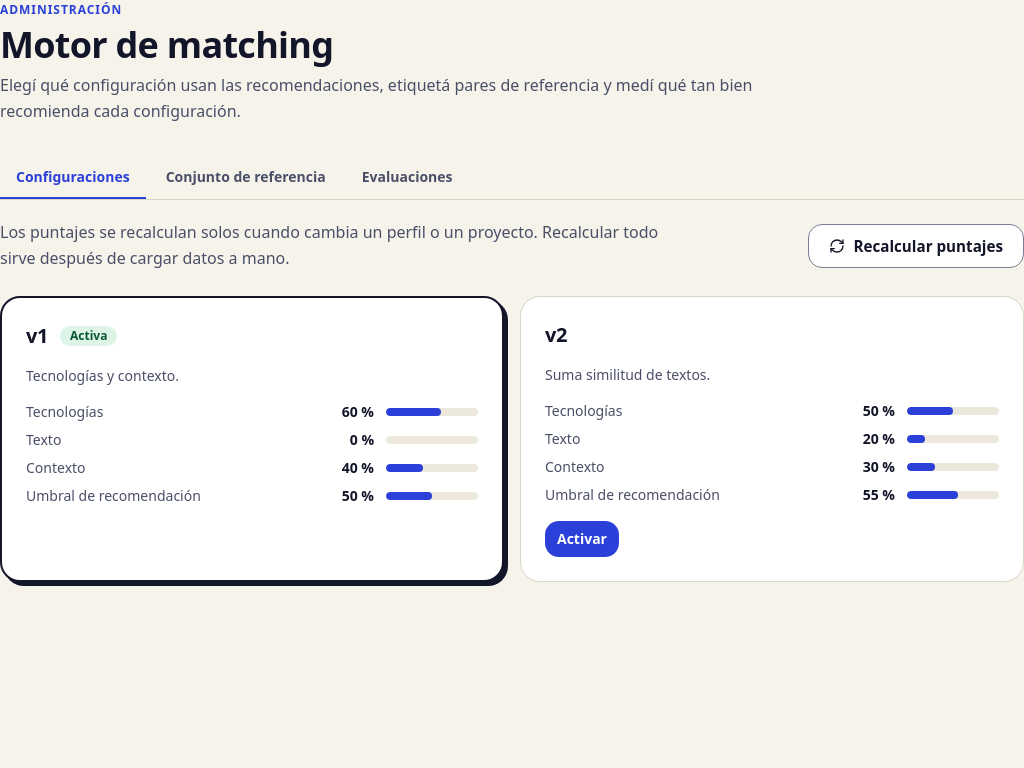
Test: MotorAdminPage › Configuraciones › activar una configuración pide confirmación, muestra los pares recalculados y recarga
What coordinates should you click on to do the following:
click the button with aria-label "Activar v2"
I would click on:
 (582, 539)
Its box is [545, 521, 619, 557].
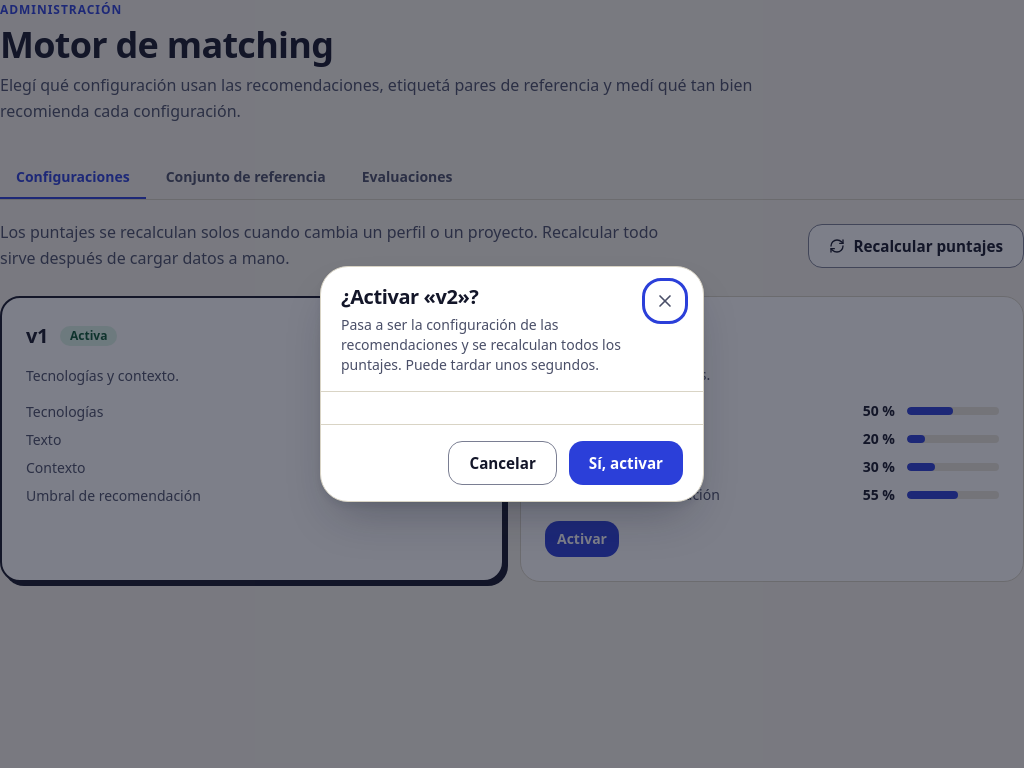
What coordinates should you click on to do the following:
click the button "Sí, activar"
I would click on:
 (626, 463)
Its box is [569, 441, 683, 485].
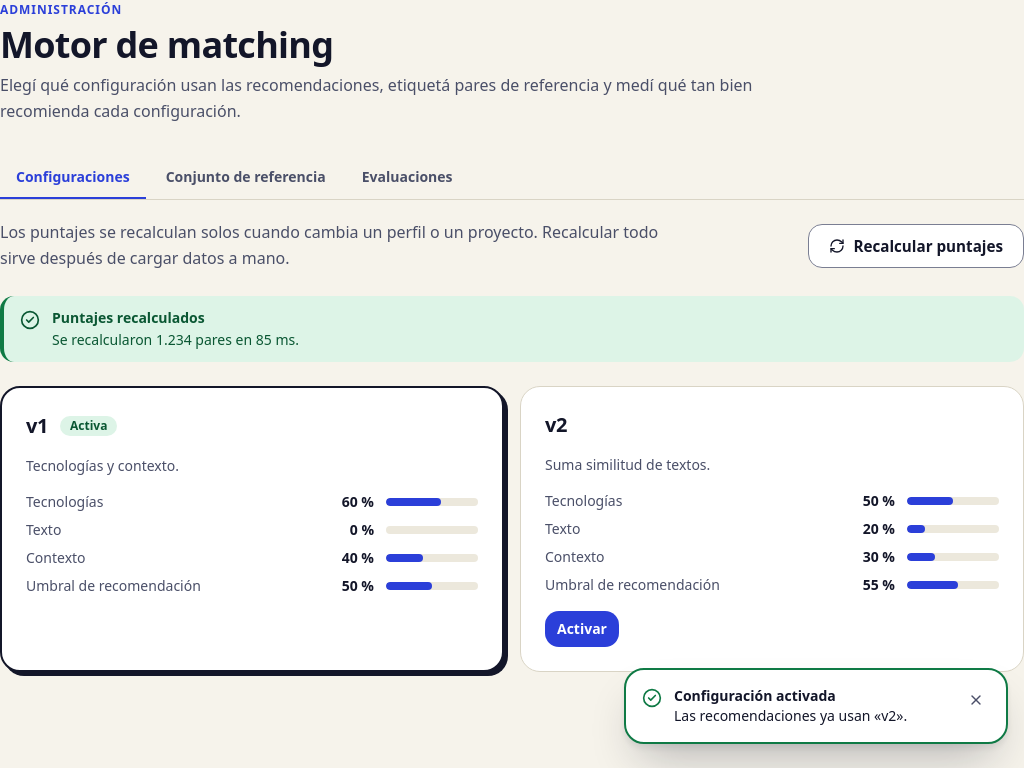
Expected: the text "Se recalcularon 1.234 pares en 85 ms." is shown, [52, 330, 299, 350]
